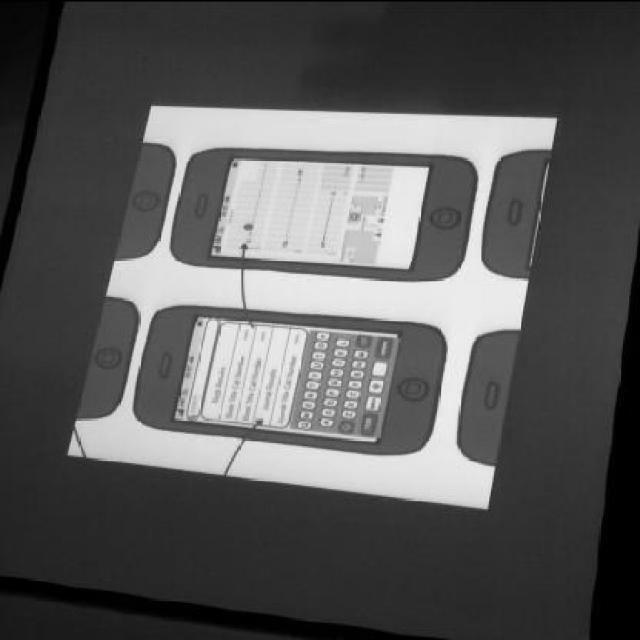fake: (133, 298, 462, 456), (173, 138, 478, 279), (484, 134, 556, 280), (454, 326, 530, 464), (108, 143, 182, 260), (85, 302, 133, 416)
